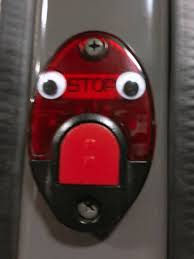bell: (29, 29, 155, 235)
